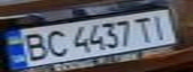3: (103, 19, 121, 49)
4: (69, 22, 90, 54), (87, 20, 106, 52)
7: (115, 17, 136, 47)
B: (15, 29, 51, 62)
C: (39, 28, 72, 58)
I: (145, 11, 175, 40)
T: (130, 15, 157, 43)
